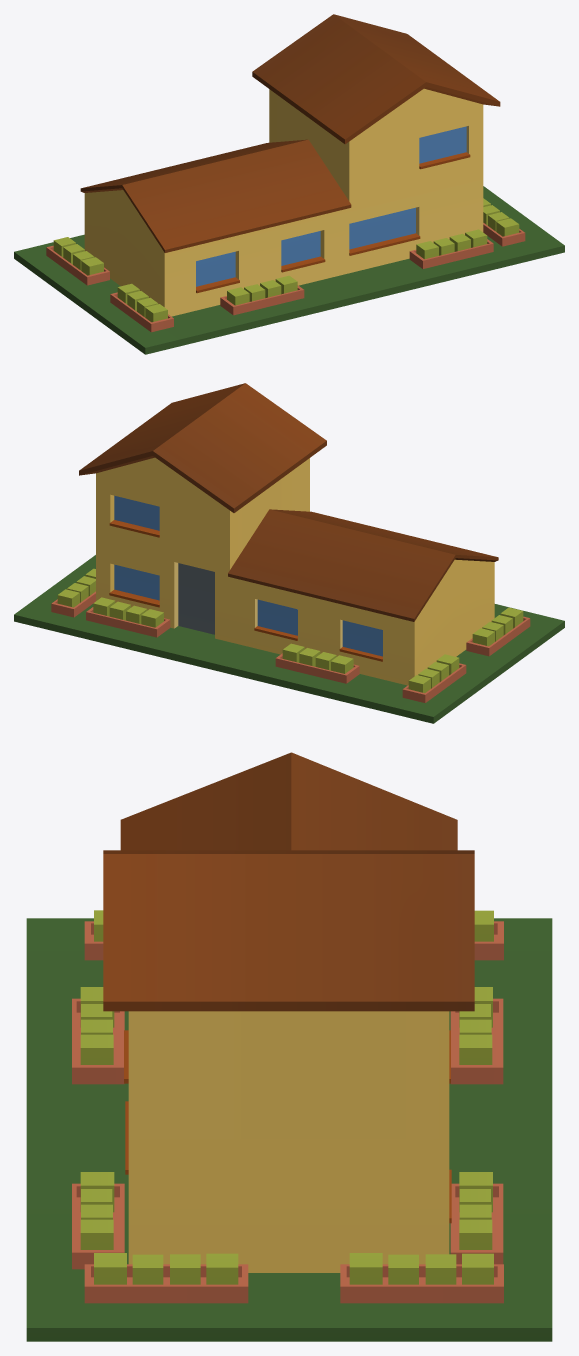
File: Outer House7.fbx
3 renders of one model, top to bottom at view 1: azimuth 30°, elevation 25°; view 2: azimuth 150°, elevation 25°; view 3: azimuth 270°, elevation 25°, orthographic. The views are drawn at different scales.
Parts seen in each view (by area): view 1: Outer_House7; view 2: Outer_House7; view 3: Outer_House7.
Boxes of the visible parts, left/top/right/bottom form: Outer_House7: left=14, top=14, right=564, bottom=354; Outer_House7: left=14, top=383, right=564, bottom=723; Outer_House7: left=26, top=752, right=552, bottom=1341.
Size of the model in its own units: 1712 by 723 by 928.
Materials: 1 (1 with a texture image).
